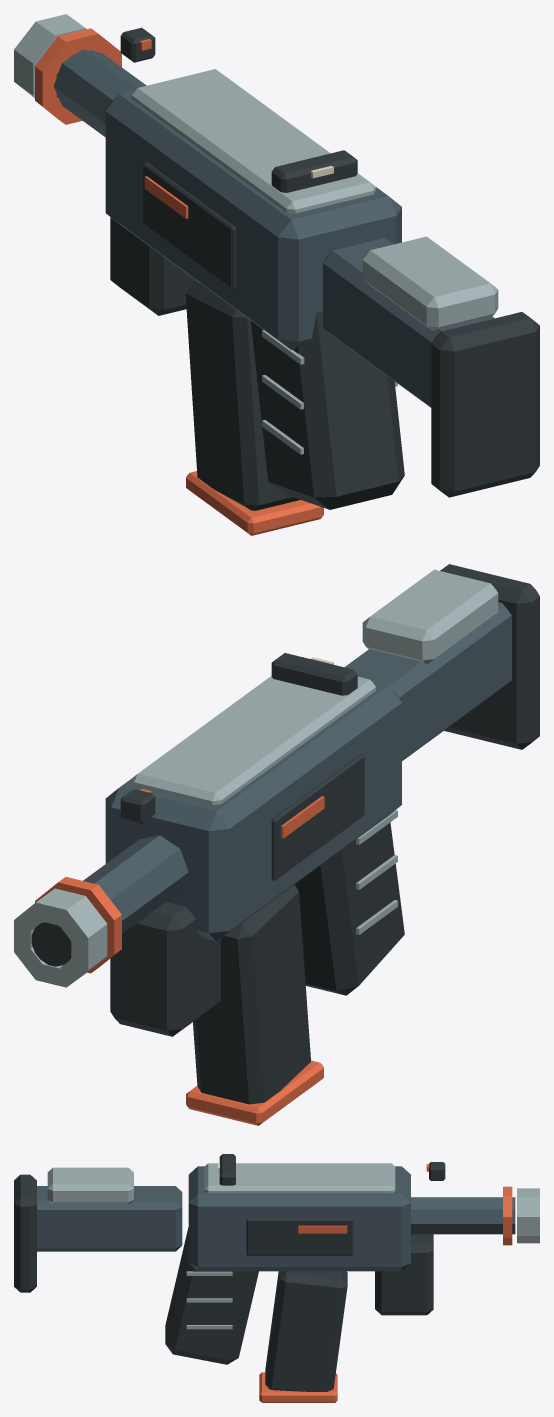
The model's file is smg.glb.
3 renders of one model, top to bottom at view 1: azimuth 30°, elevation 25°; view 2: azimuth 150°, elevation 25°; view 3: azimuth 270°, elevation 25°, orthographic. The views are drawn at different scales.
Visible parts, largest first — view 1: smg_receiver, smg_grip, smg_stock_pad, smg_magazine, smg_upper_spine, smg_stock_neck, smg_stock_cheek, smg_side_panel, smg_foregrip, smg_barrel, smg_magazine_base, smg_muzzle_collar (+4 smaller); view 2: smg_receiver, smg_magazine, smg_upper_spine, smg_grip, smg_foregrip, smg_stock_neck, smg_stock_cheek, smg_stock_pad, smg_muzzle, smg_side_panel, smg_barrel, smg_magazine_base (+5 smaller); view 3: smg_receiver, smg_magazine, smg_stock_neck, smg_grip, smg_upper_spine, smg_side_panel.001, smg_barrel, smg_foregrip, smg_stock_cheek, smg_stock_pad, smg_muzzle, smg_magazine_base (+4 smaller).
Boxes of the visible parts, <box> form: smg_receiver: <box>105,90,401,349</box>; smg_grip: <box>250,311,404,509</box>; smg_stock_pad: <box>431,312,539,497</box>; smg_magazine: <box>185,280,300,510</box>; smg_upper_spine: <box>131,69,375,213</box>; smg_stock_neck: <box>323,238,494,407</box>; smg_stock_cheek: <box>362,236,498,330</box>; smg_side_panel: <box>143,162,236,288</box>; smg_foregrip: <box>110,217,195,315</box>; smg_barrel: <box>53,49,146,137</box>; smg_magazine_base: <box>186,471,323,535</box>; smg_muzzle_collar: <box>35,28,121,124</box>; smg_receiver: <box>105,681,401,941</box>; smg_magazine: <box>193,884,310,1104</box>; smg_upper_spine: <box>131,676,375,805</box>; smg_grip: <box>295,822,404,995</box>; smg_foregrip: <box>110,902,220,1036</box>; smg_stock_neck: <box>345,602,511,760</box>; smg_stock_cheek: <box>362,569,498,663</box>; smg_stock_pad: <box>440,564,539,749</box>; smg_muzzle: <box>14,888,107,987</box>; smg_side_panel: <box>271,753,364,880</box>; smg_barrel: <box>83,835,188,933</box>; smg_magazine_base: <box>186,1060,323,1125</box>; smg_receiver: <box>188,1166,410,1271</box>; smg_magazine: <box>265,1271,347,1391</box>; smg_stock_neck: <box>37,1186,182,1251</box>; smg_grip: <box>165,1227,258,1364</box>; smg_upper_spine: <box>204,1163,395,1193</box>; smg_side_panel.001: <box>246,1218,353,1255</box>; smg_barrel: <box>411,1197,515,1234</box>; smg_foregrip: <box>375,1234,433,1315</box>; smg_stock_cheek: <box>47,1167,133,1204</box>; smg_stock_pad: <box>14,1174,36,1292</box>; smg_muzzle: <box>517,1188,539,1243</box>; smg_magazine_base: <box>259,1372,337,1402</box>.
Size of the model in its own units: 0.145 by 0.3865 by 0.805.
